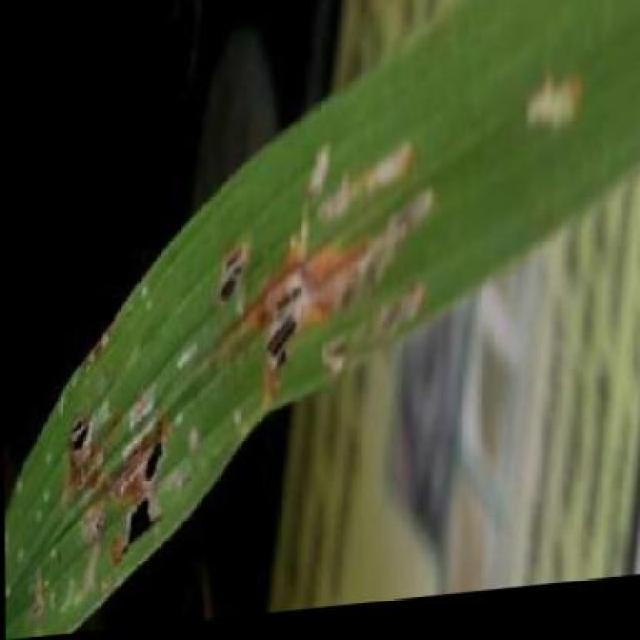Bacterial_Leaf_Blight: (235, 232, 374, 408), (68, 485, 185, 577), (102, 388, 182, 503), (41, 404, 113, 501), (39, 567, 133, 638), (199, 226, 266, 317), (8, 563, 63, 635)
